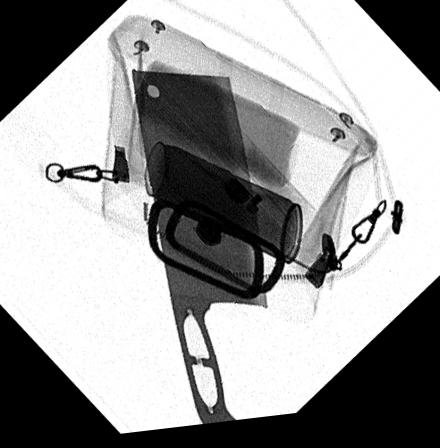Knife: (129, 72, 267, 429)
